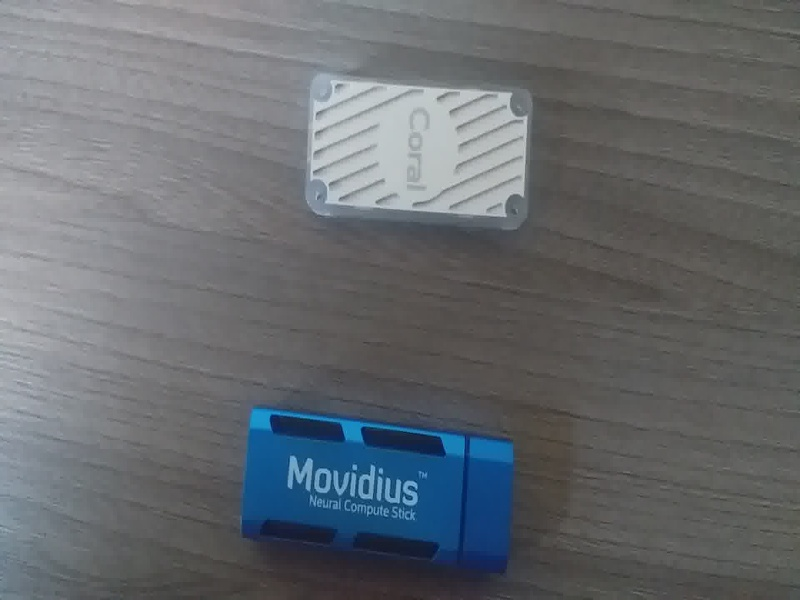coral: (297, 69, 544, 237)
movidius: (235, 399, 539, 583)
